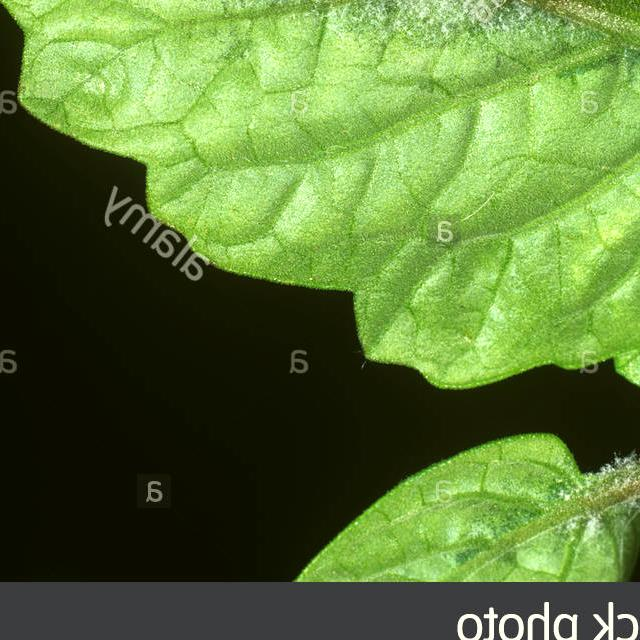Tomato leaf late blight: (0, 0, 640, 398)
